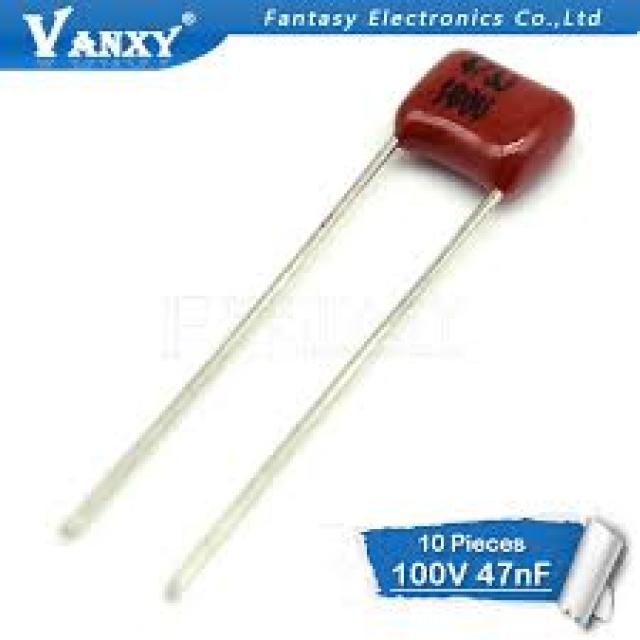Capacitor: (71, 54, 577, 540)
